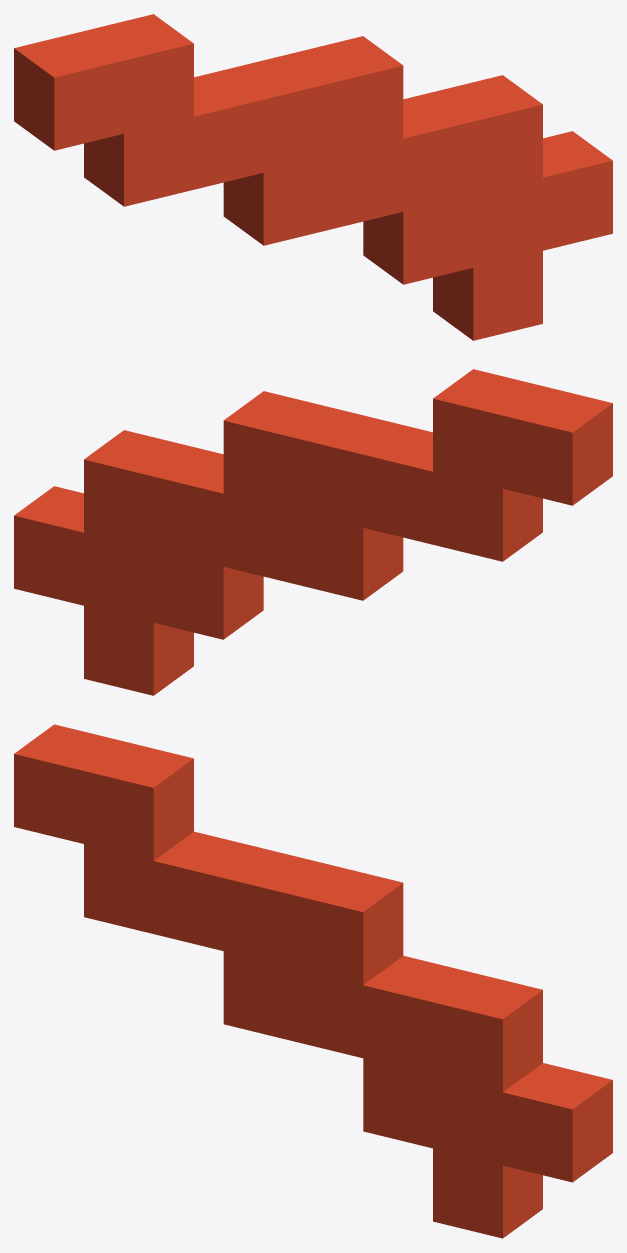
File: Lightning-Large-Red.vox.obj
3 views of the same model, one above another, from view 1: azimuth 30°, elevation 25°; view 2: azimuth 150°, elevation 25°; view 3: azimuth 330°, elevation 25° (orthographic).
Bounding box in the file's own units: 0.8 × 0.5 × 0.1.
1 material, 1 textured.
